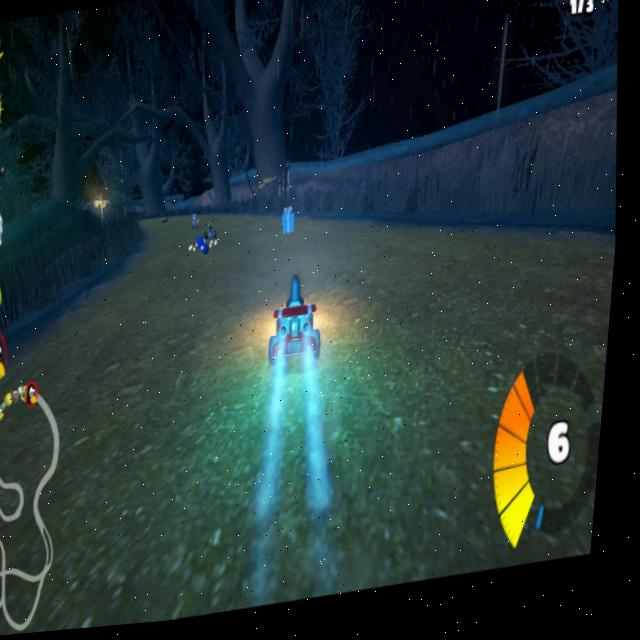bonus: (282, 210, 303, 243)
player_kart: (265, 275, 339, 381)
track: (127, 194, 270, 400)
